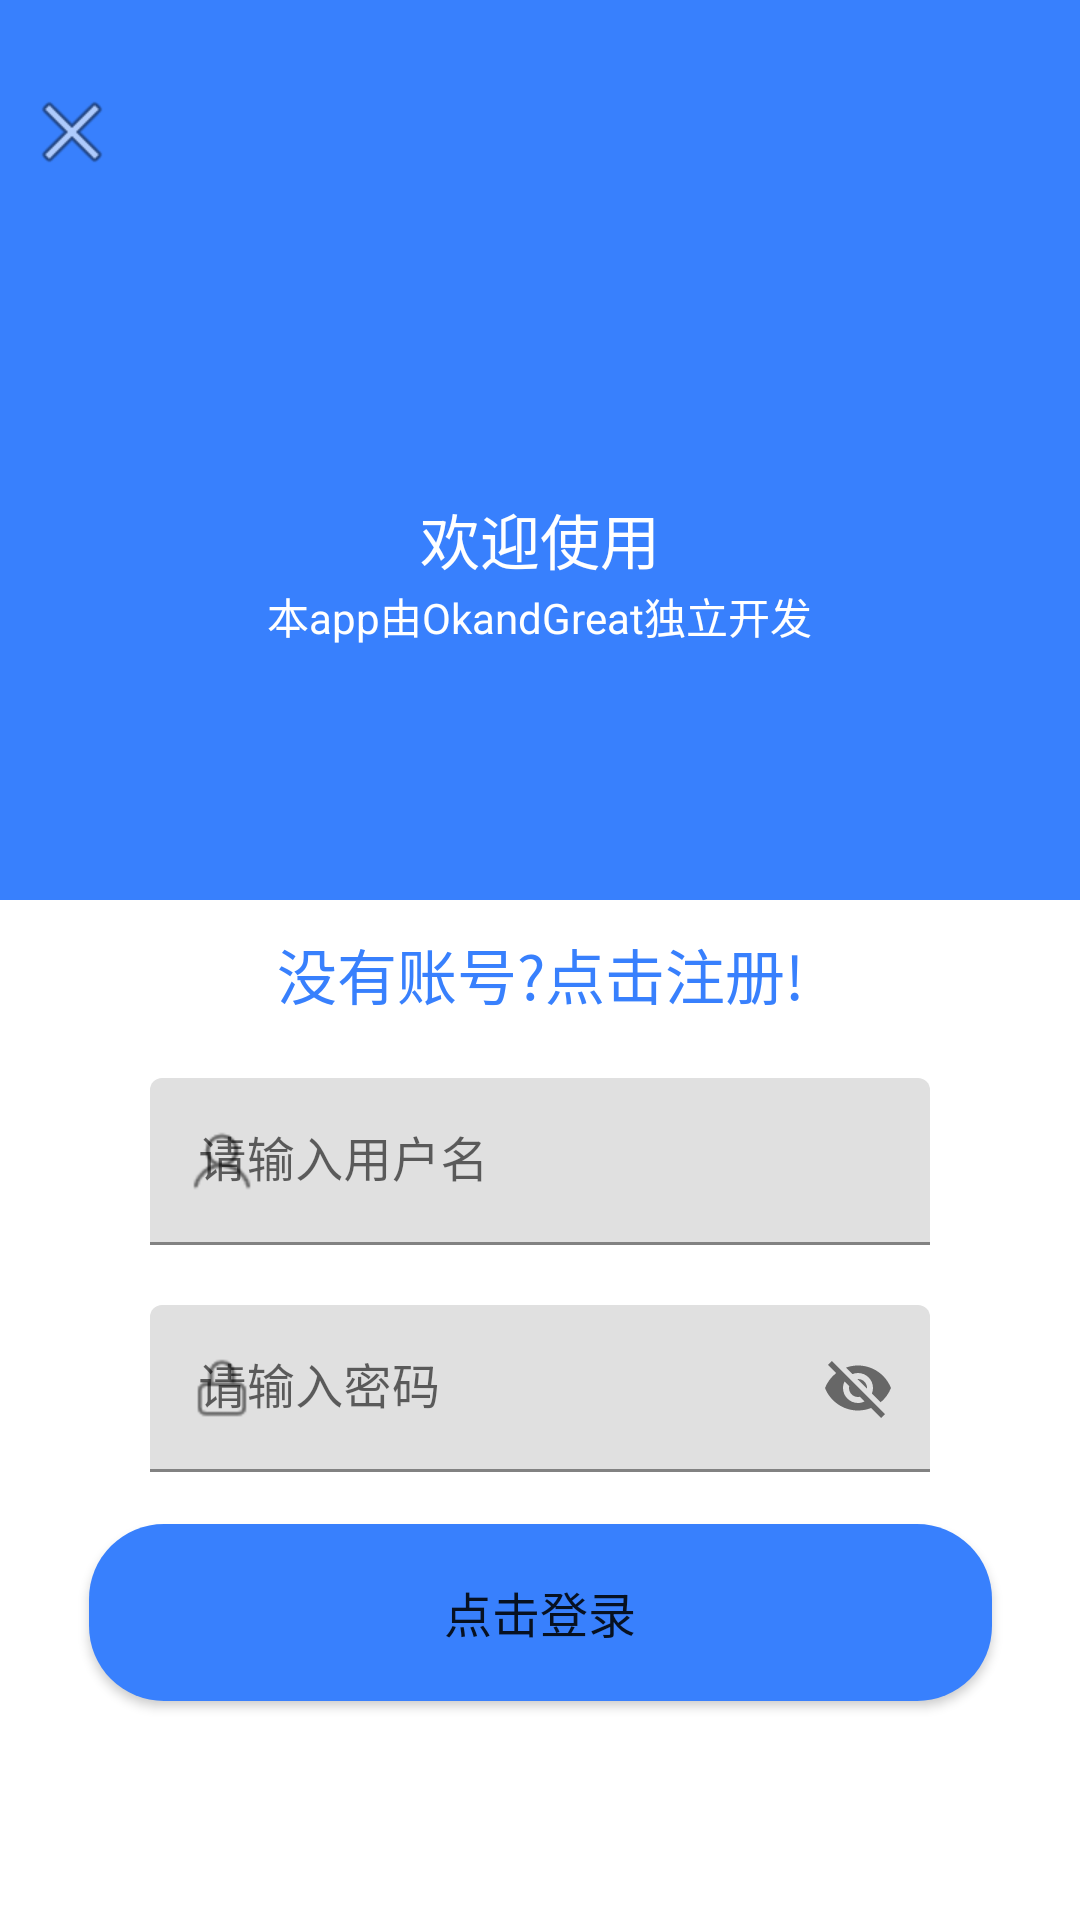

Screen size 1080px×1920px. Icon name, then its box in pixels as [x1=x1, y1=y1, x2=x2, y2=y2]:
close clear cancel: [x1=42, y1=102, x2=102, y2=162]
